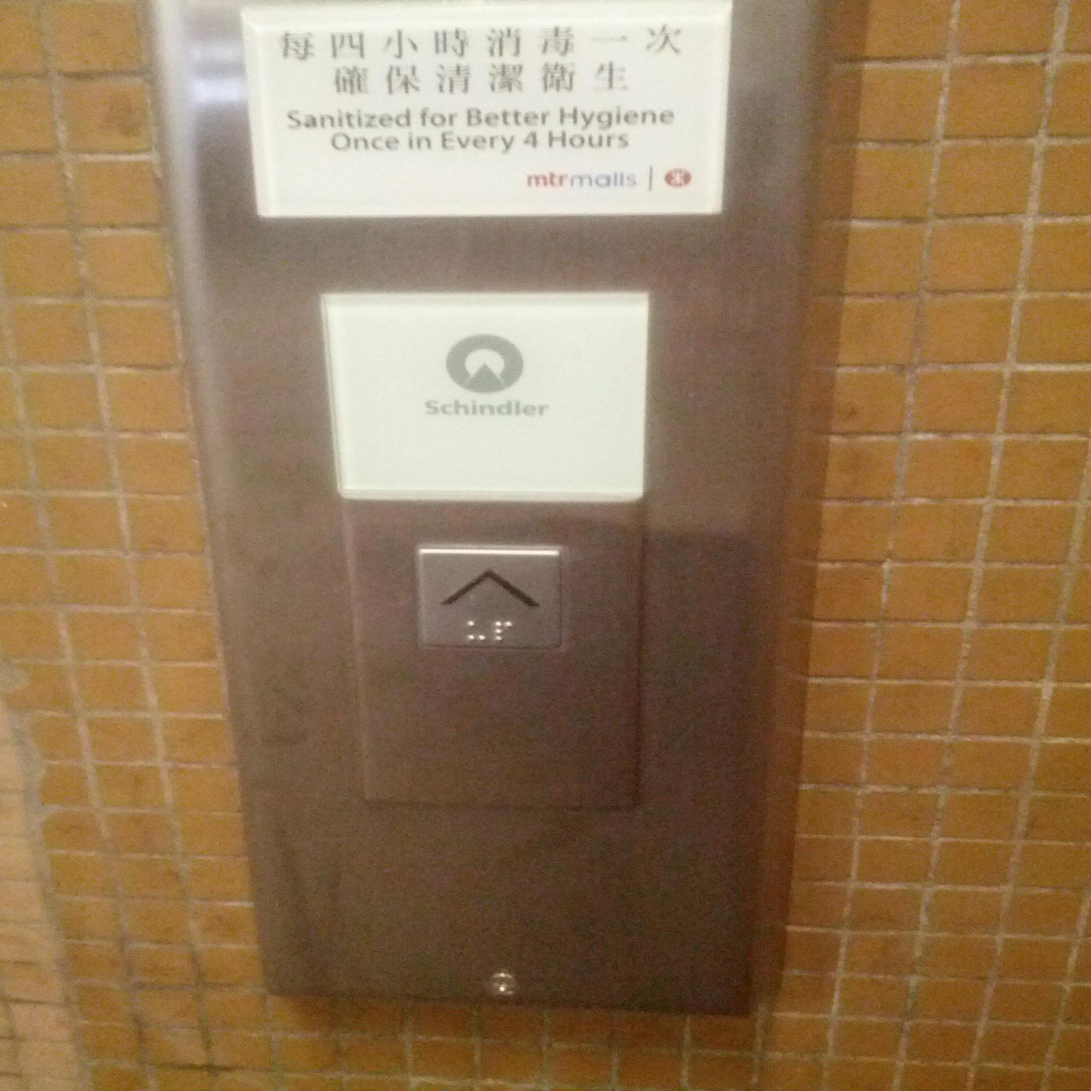up: (415, 546, 562, 649)
